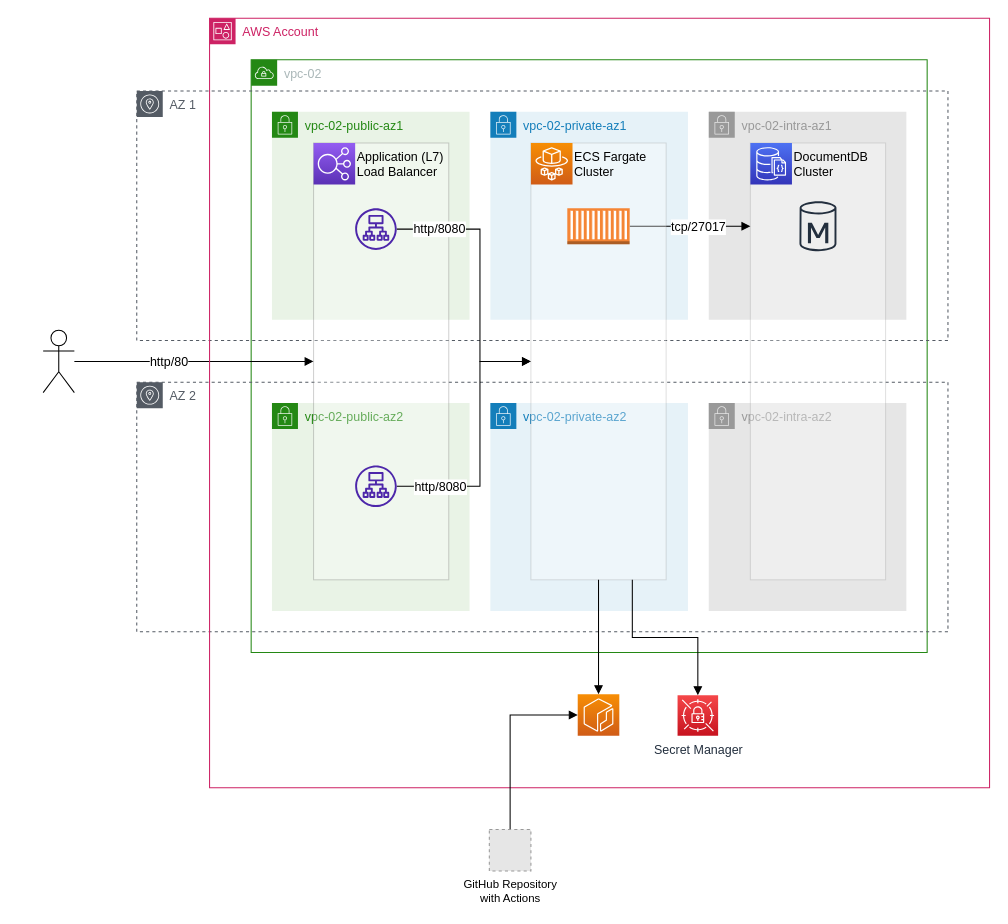
Image size: 1008x924. Some labels were removed from this diagram. Grey dashed boxes stand in for pictures. Here are the shapes that lost their labels. From the top down, the centre of each, then its label:
At pixel 375 228: "ALB Node 1".
At pixel 598 225: "Application Container".
At pixel 817 225: "DocumentDB primary instance".
At pixel 58 361: "API Consumer".
At pixel 375 485: "ALB Node 2".
At pixel 598 714: "Elastic Container Registry".
